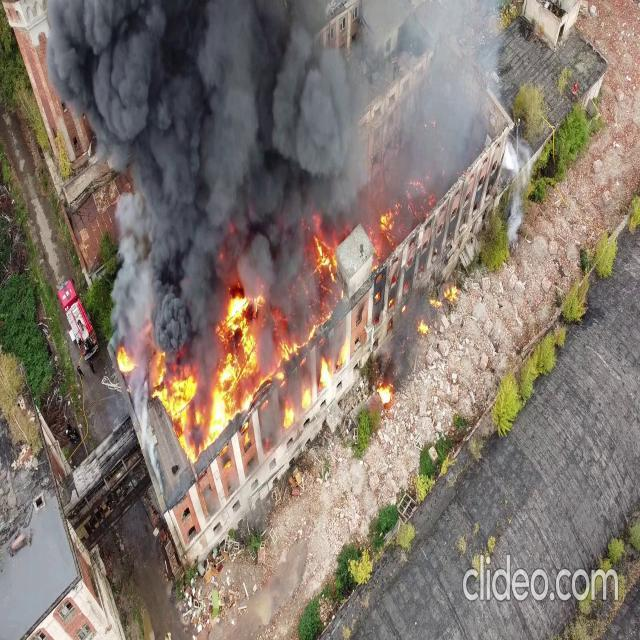Fire: (148, 284, 310, 468), (312, 232, 341, 280), (372, 374, 396, 411), (114, 344, 138, 379)
Smoke: (55, 0, 354, 294), (320, 0, 504, 191)
